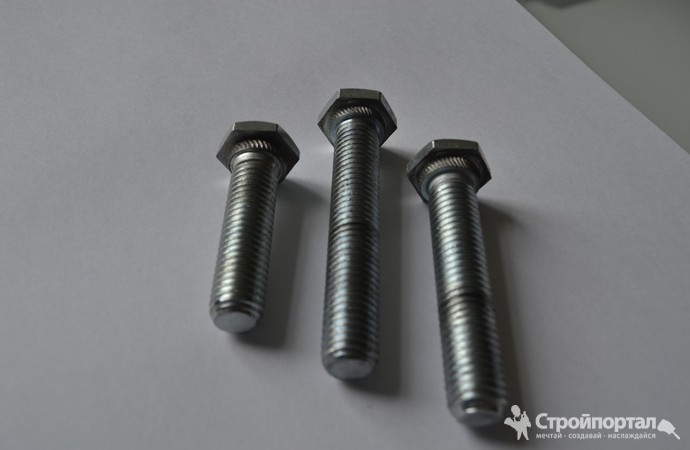screw: (406, 139, 512, 428), (316, 87, 397, 383), (208, 120, 301, 335)
